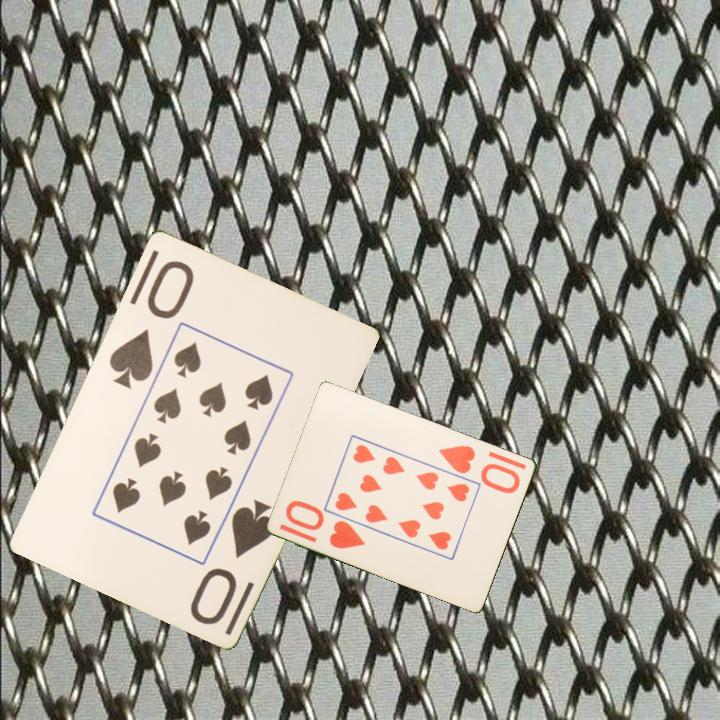10h: (435, 441, 523, 496), (282, 498, 368, 552)
10s: (105, 256, 197, 391), (186, 494, 278, 628)
